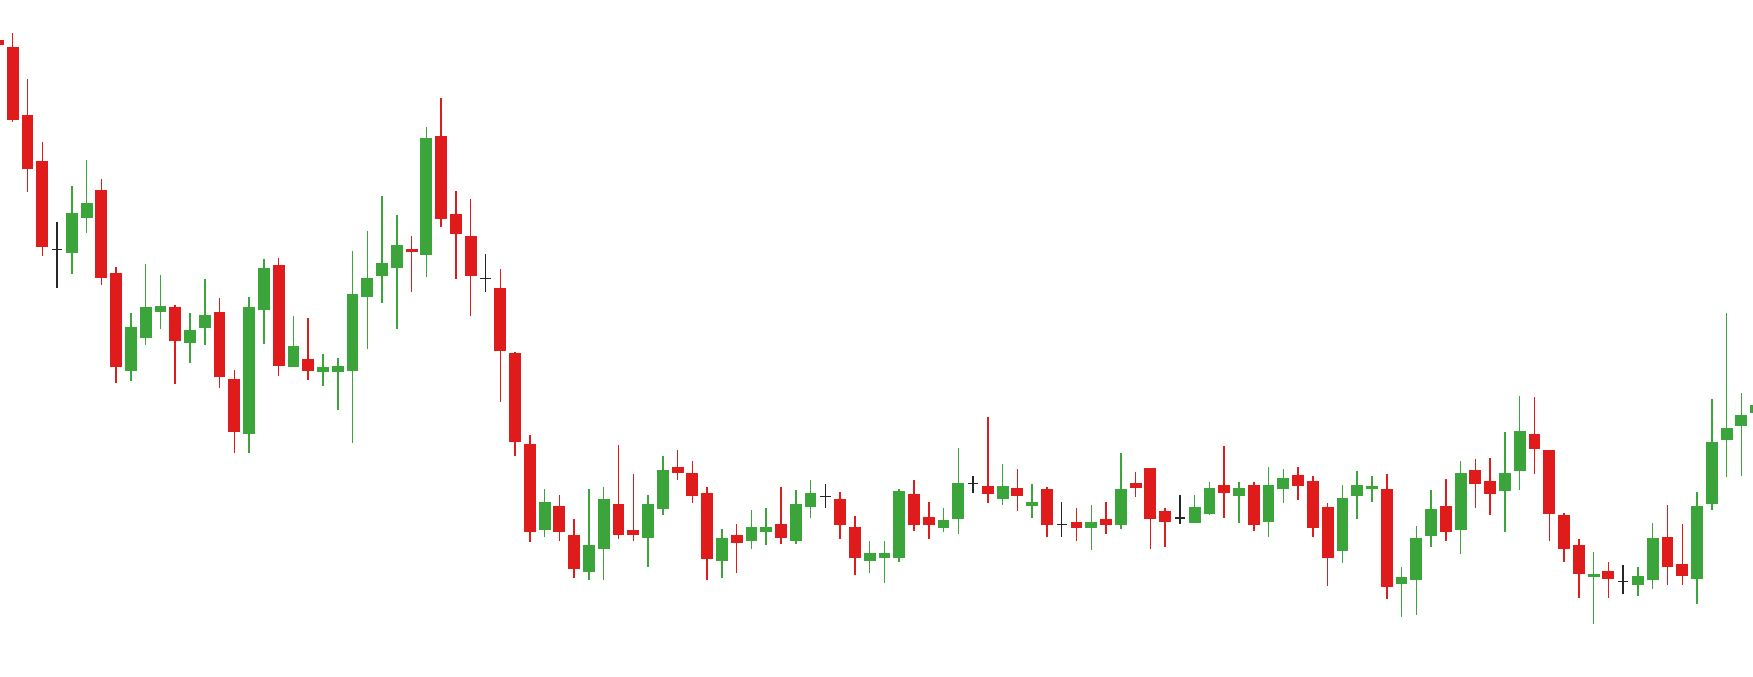buy: (165, 292, 257, 460), (1321, 494, 1409, 626)
sell: (372, 93, 452, 269)
